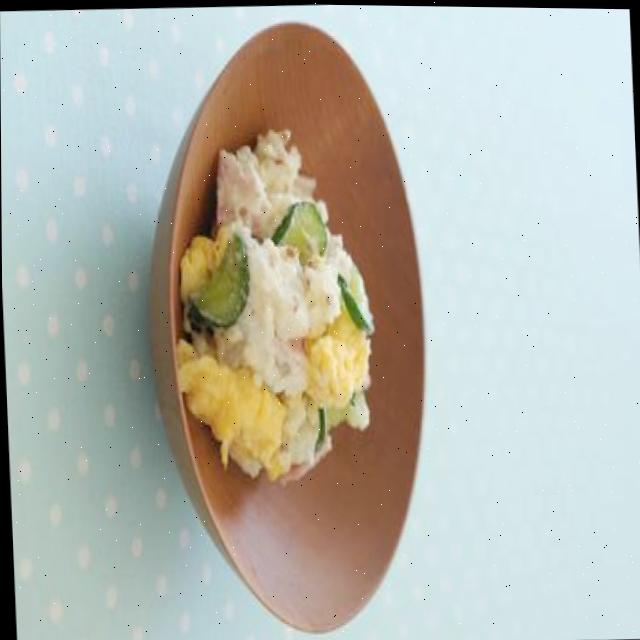蔬菜料理: (136, 11, 445, 640)
